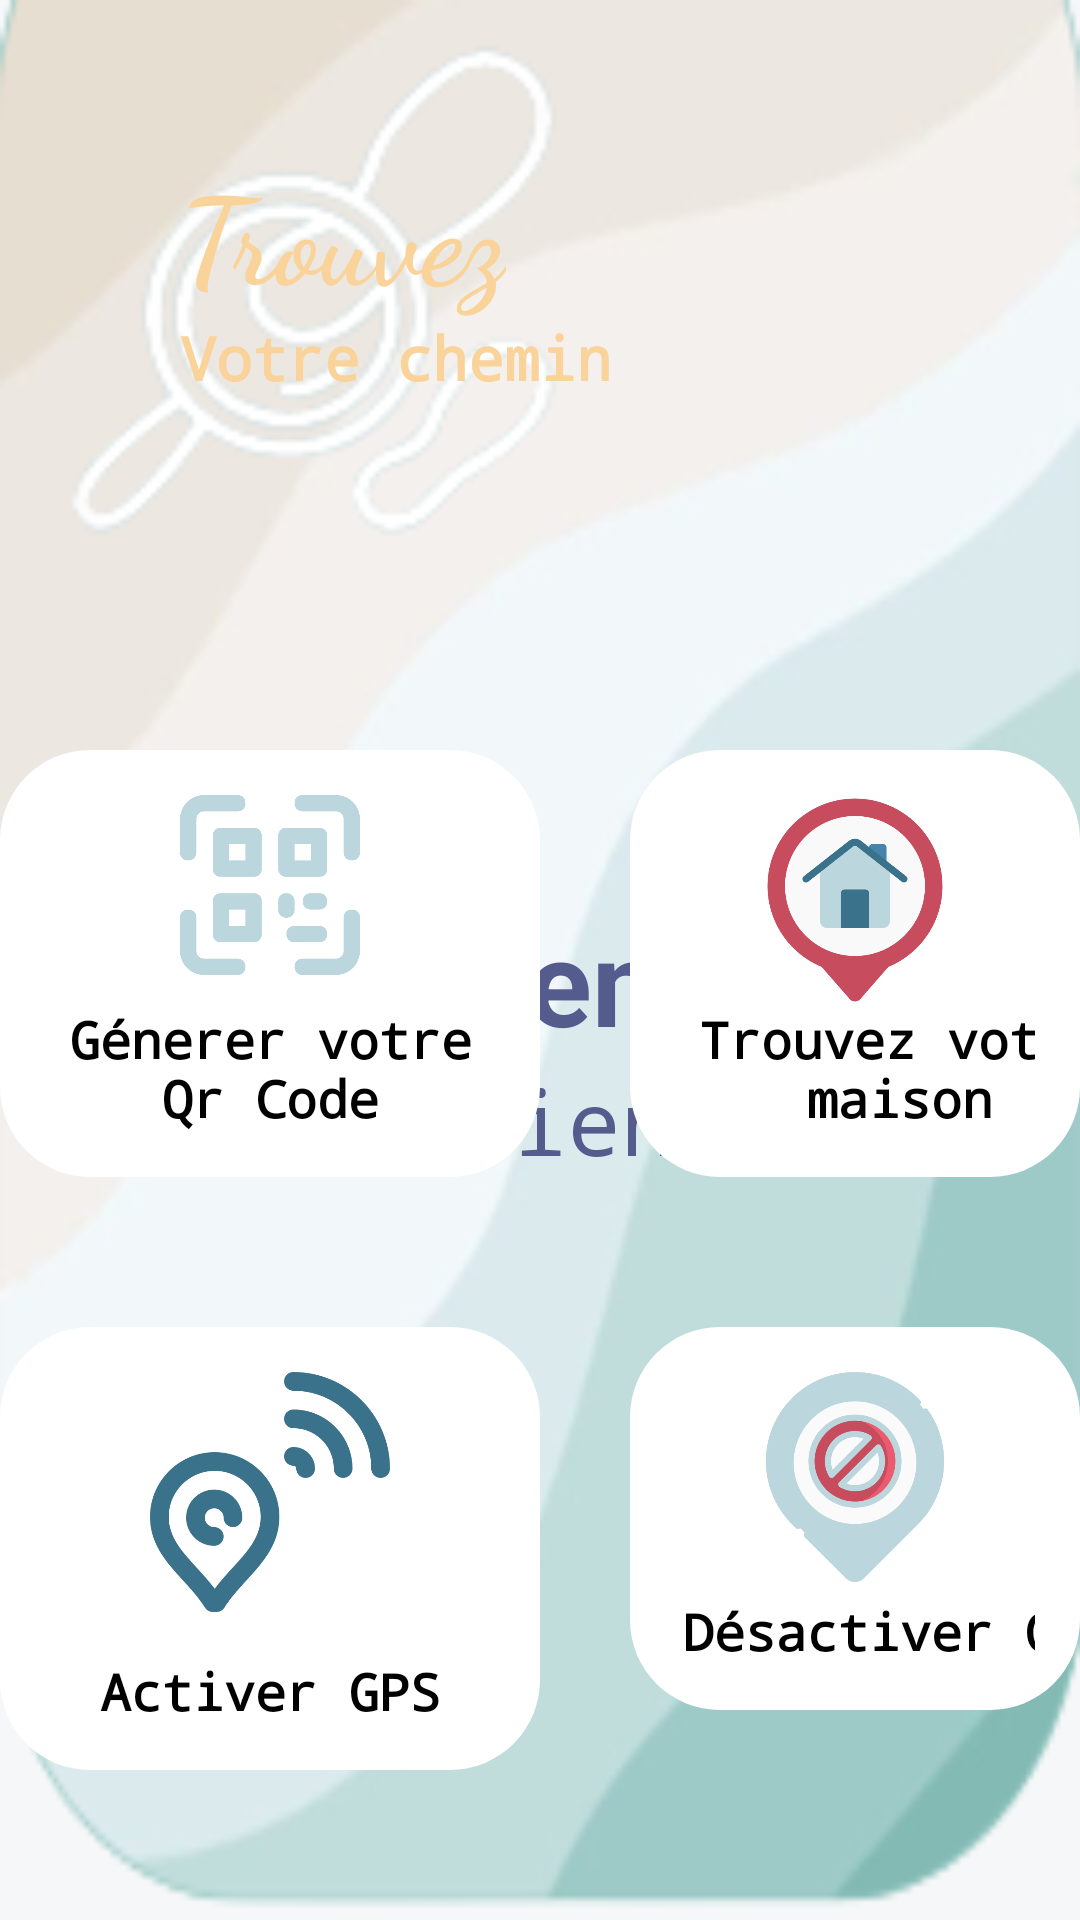

Named icons in this screenshot (1080 × 1920) and their bounding boxes, (x1, y1, x2, y2):
home pin: (767, 798, 943, 1002)
no location: (766, 1372, 944, 1582)
signal: (150, 1372, 390, 1612)
